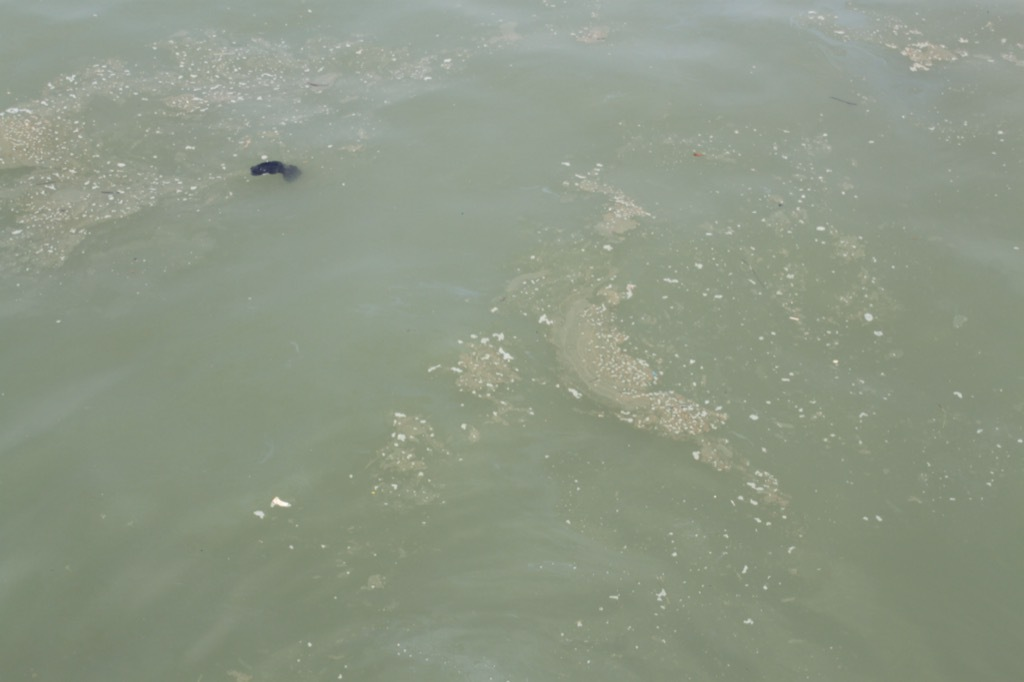plastic: (240, 148, 327, 197), (264, 487, 294, 517), (246, 501, 275, 529)
